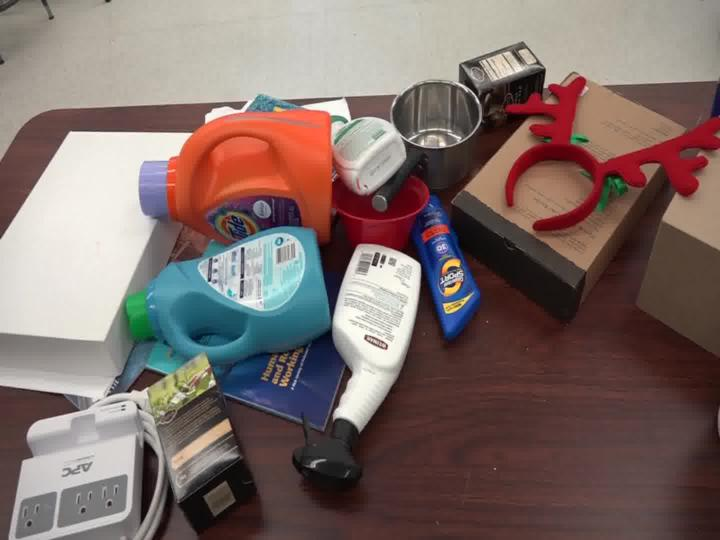tide: (130, 87, 345, 248)
